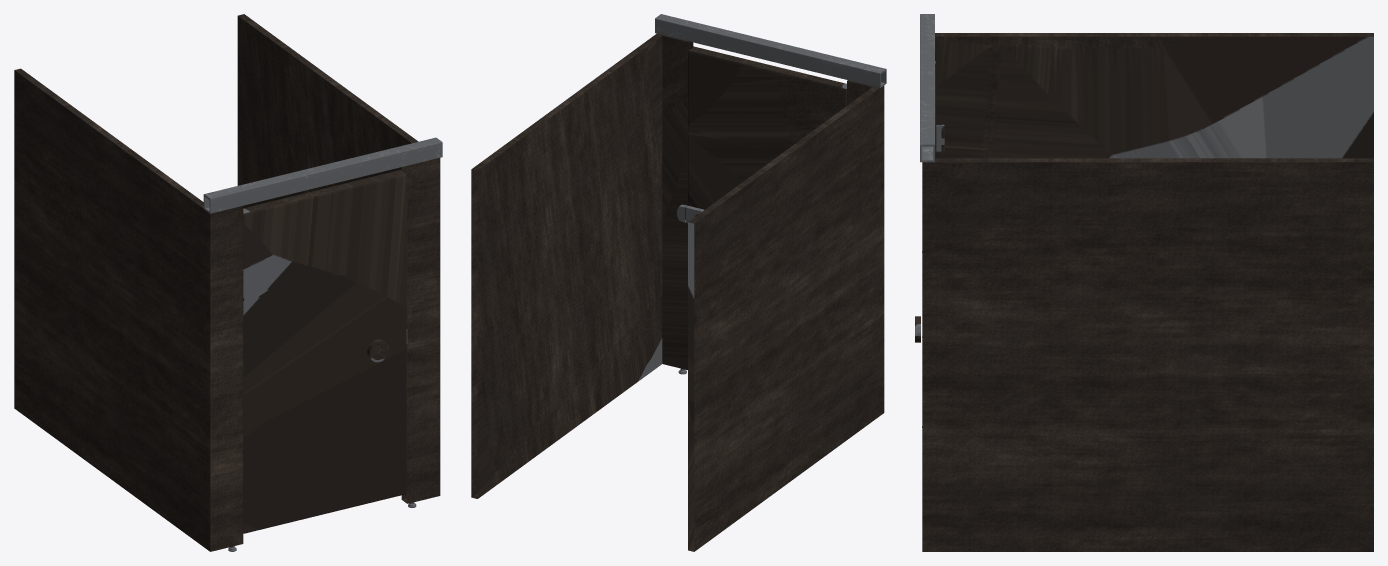
File: ToiletPartitionModel.fbx
The picture shows the model from 3 angles, left to right: view 1: azimuth 30°, elevation 25°; view 2: azimuth 150°, elevation 25°; view 3: azimuth 270°, elevation 25°; orthographic projection. The views are drawn at different scales.
Visible parts, largest first — view 1: walls_GEO, door_GEO, bar_GEO; view 2: walls_GEO, door_GEO, bar_GEO; view 3: walls_GEO, bar_GEO.
Part boxes in pixels (x1,y1,x2,y2): walls_GEO: [14, 14, 440, 551]; door_GEO: [243, 169, 407, 533]; bar_GEO: [203, 137, 442, 213]; walls_GEO: [471, 33, 884, 551]; door_GEO: [687, 46, 846, 278]; bar_GEO: [655, 14, 886, 87]; walls_GEO: [922, 33, 1373, 551]; bar_GEO: [920, 14, 934, 162].
Size of the model in its own units: 91.04 by 135 by 135.
Materials: 1 (1 with a texture image).
